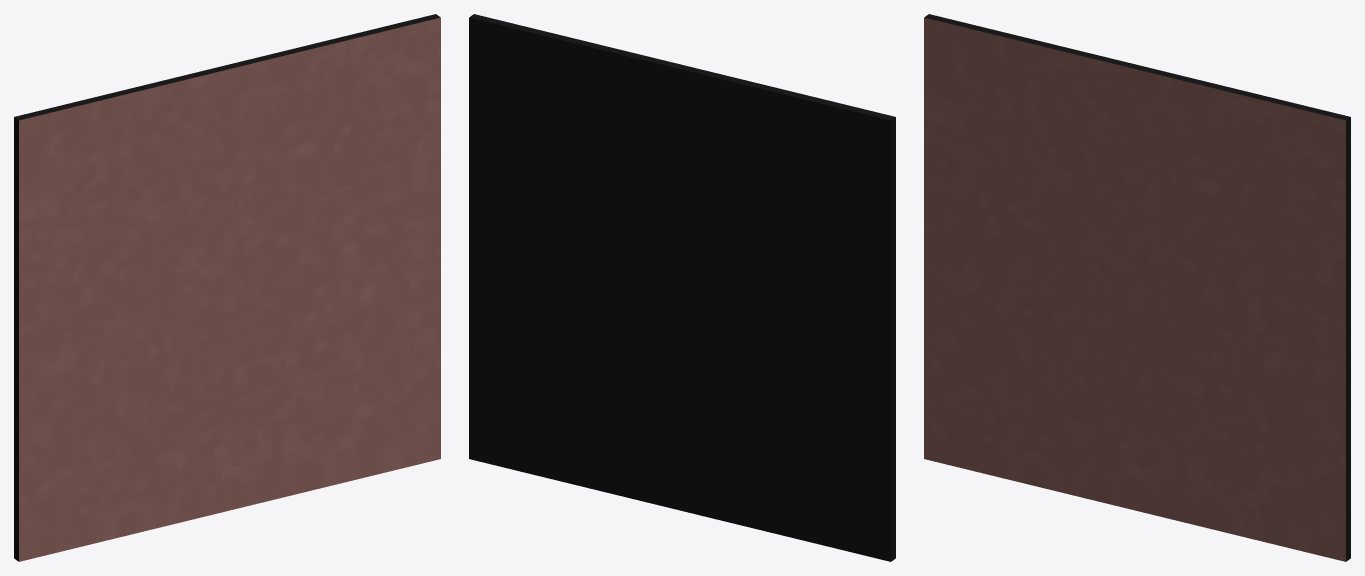
Rendered from Wall_D_03.FBX.
3 views of the same model, side by side, from view 1: azimuth 30°, elevation 25°; view 2: azimuth 150°, elevation 25°; view 3: azimuth 330°, elevation 25° (orthographic).
Parts seen in each view (by area): view 1: Wall_B; view 2: Wall_B; view 3: Wall_B.
Part boxes in pixels (x1,y1,x2,y2): Wall_B: (14,14,440,561); Wall_B: (469,14,895,561); Wall_B: (924,14,1350,561).
Bounding box in the file's own units: 500 × 500 × 10.
